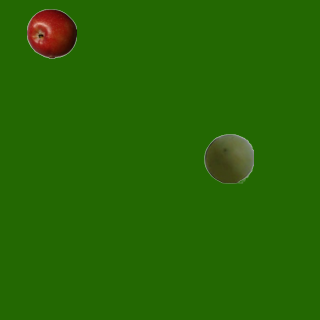Apple Braeburn: (26, 8, 76, 58)
Grape White 4: (203, 133, 253, 183)
